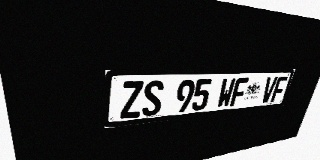5: (191, 79, 212, 111)
9: (174, 79, 196, 113)
F: (230, 78, 249, 107), (270, 76, 288, 102)
S: (142, 80, 164, 117)
V: (260, 77, 278, 103)
W: (216, 78, 236, 108)
Z: (120, 81, 144, 119)
